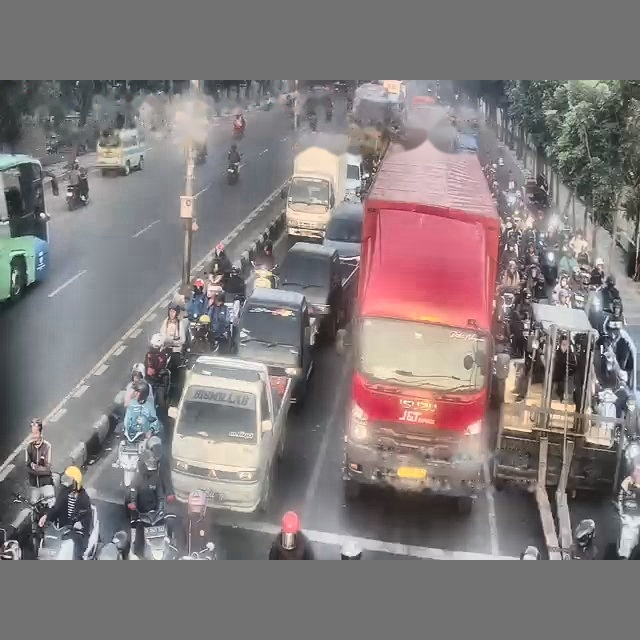Bis: (0, 154, 58, 301), (96, 128, 144, 175)
Motor: (14, 496, 79, 559), (131, 509, 177, 559), (116, 425, 145, 491), (66, 185, 87, 210), (227, 162, 239, 184)
Truk: (343, 140, 506, 512), (169, 356, 292, 512), (282, 133, 347, 241)
